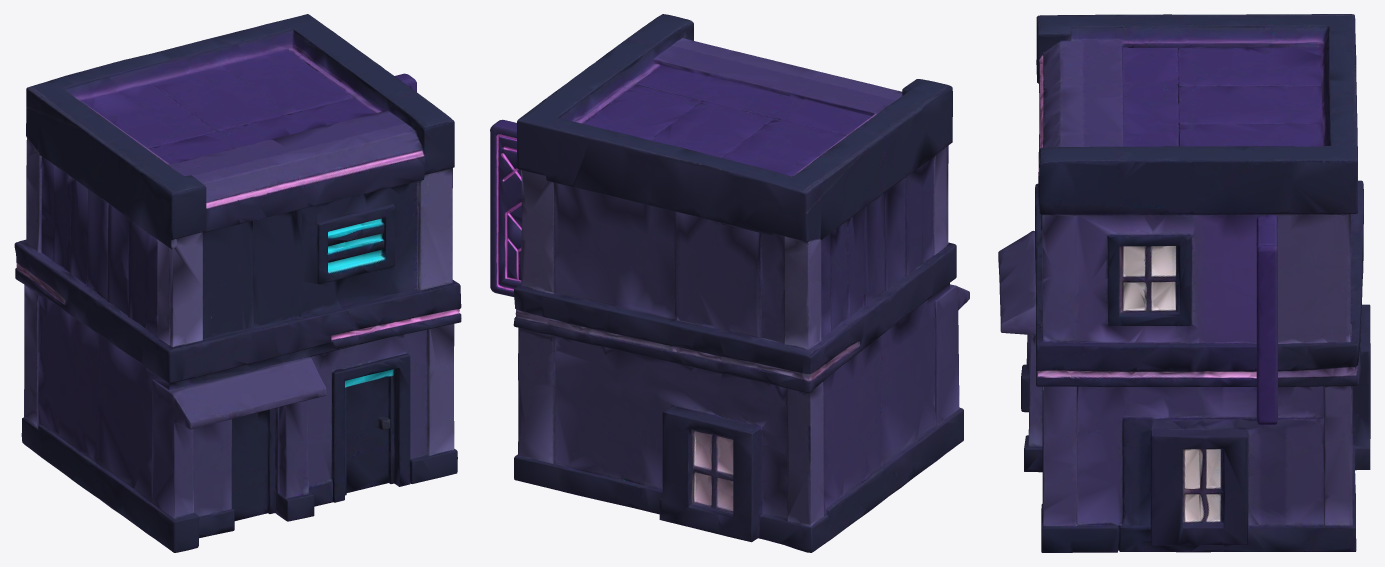
File: building-c-pink-neon.glb
3 views of the same model, side by side, from view 1: azimuth 30°, elevation 25°; view 2: azimuth 150°, elevation 25°; view 3: azimuth 270°, elevation 25° (orthographic). The views are drawn at different scales.
Parts seen in each view (by area): view 1: mesh_node; view 2: mesh_node; view 3: mesh_node.
Part boxes in pixels (<box>): mesh_node: <box>14,14,461,552</box>; mesh_node: <box>490,14,969,552</box>; mesh_node: <box>998,14,1370,552</box>.
Size of the model in its own units: 1.86 by 1.79 by 1.54.
1 material, 1 textured.
